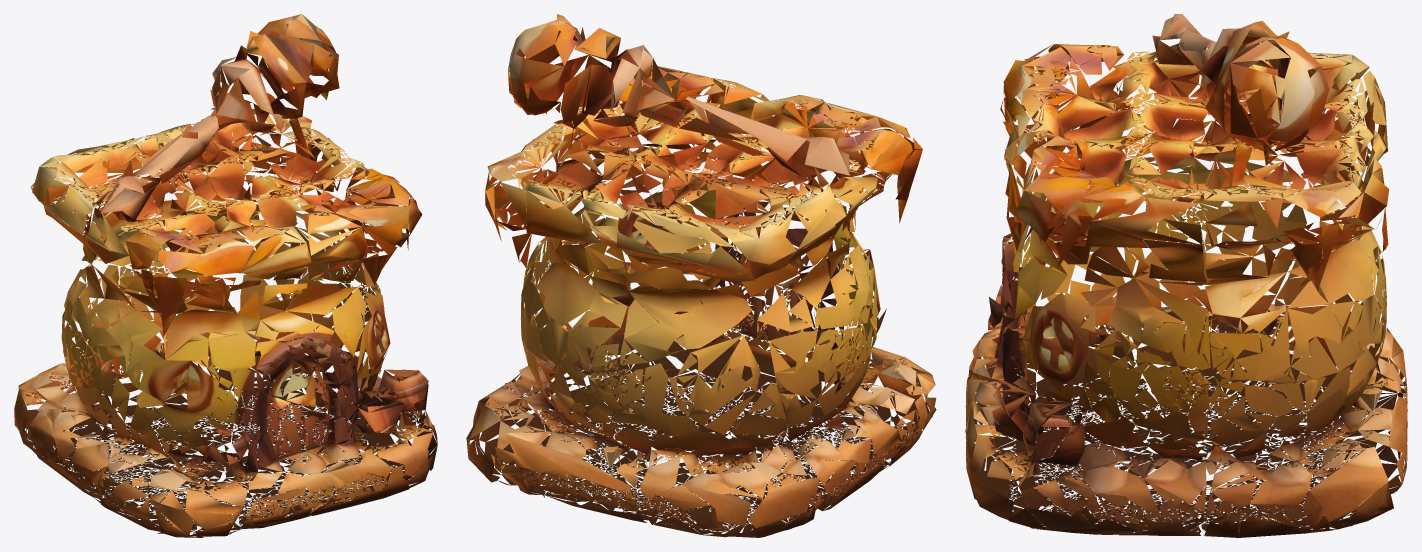
File: honey-pot-tavern.glb
The picture shows the model from 3 angles, left to right: view 1: azimuth 30°, elevation 25°; view 2: azimuth 150°, elevation 25°; view 3: azimuth 270°, elevation 25°; orthographic projection. The views are drawn at different scales.
Parts seen in each view (by area): view 1: tripo_node_c4875583-a030-438d-889b-76daa1e11e84; view 2: tripo_node_c4875583-a030-438d-889b-76daa1e11e84; view 3: tripo_node_c4875583-a030-438d-889b-76daa1e11e84.
Part boxes in pixels (x1,y1,x2,y2): tripo_node_c4875583-a030-438d-889b-76daa1e11e84: (14,14,437,537); tripo_node_c4875583-a030-438d-889b-76daa1e11e84: (466,14,936,537); tripo_node_c4875583-a030-438d-889b-76daa1e11e84: (965,14,1407,537).
Bounding box in the file's own units: 0.8298 × 1 × 0.833.
Materials: 1 (1 with a texture image).
